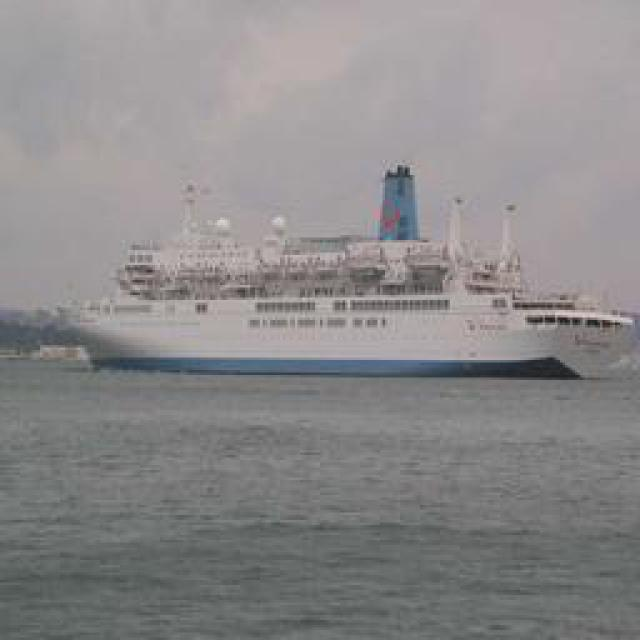Ship: (59, 221, 629, 384)
